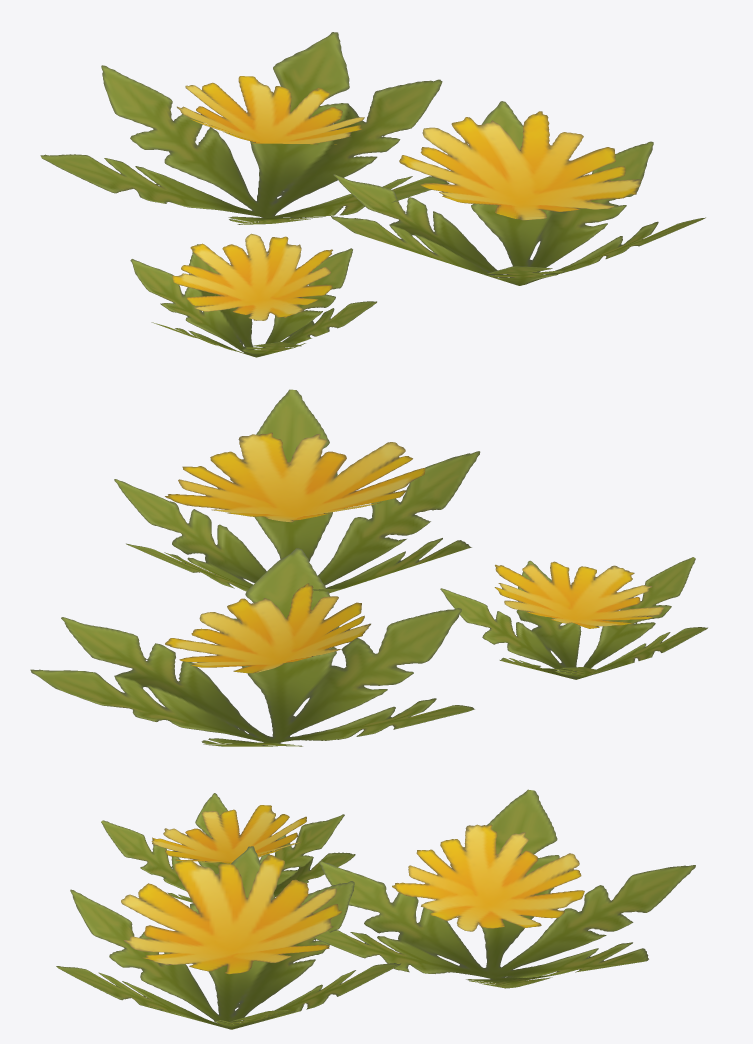
The model's file is Jungle_flower_05.fbx.
3 renders of one model, top to bottom at view 1: azimuth 30°, elevation 25°; view 2: azimuth 150°, elevation 25°; view 3: azimuth 270°, elevation 25°, orthographic. The views are drawn at different scales.
Parts seen in each view (by area): view 1: Jungle_flower_05; view 2: Jungle_flower_05; view 3: Jungle_flower_05.
Part boxes in pixels (x1,y1,x2,y2): Jungle_flower_05: [40, 32, 705, 357]; Jungle_flower_05: [30, 389, 707, 746]; Jungle_flower_05: [56, 789, 695, 1029].
Bounding box in the file's own units: 77.26 × 17.59 × 85.41.
